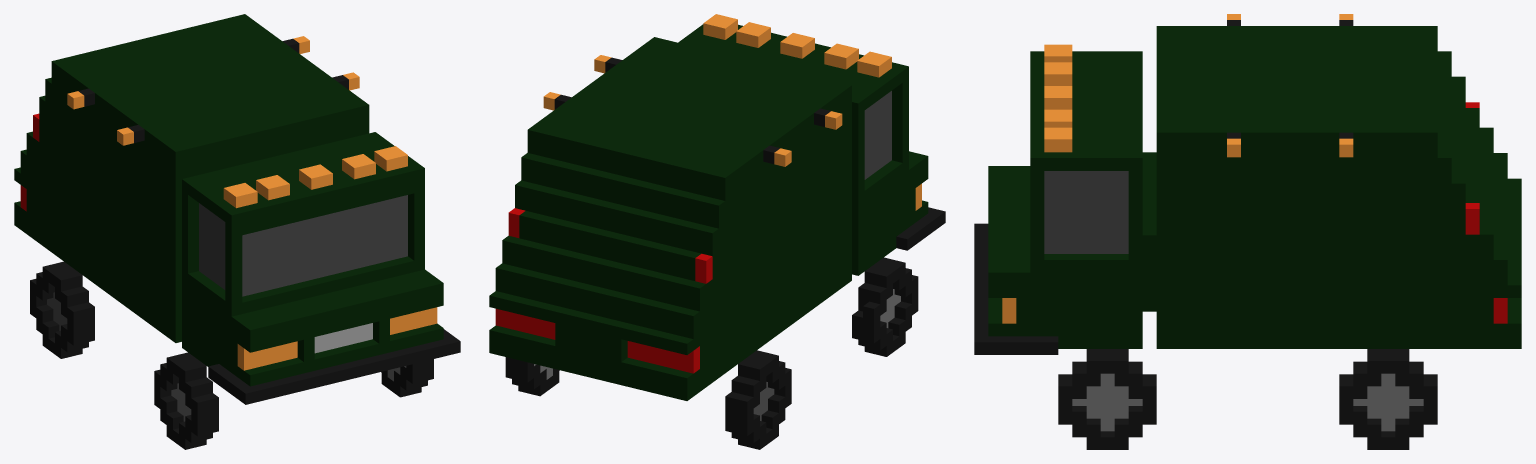
The model's file is green_truck.vox.obj.
3 views of the same model, side by side, from view 1: azimuth 30°, elevation 25°; view 2: azimuth 150°, elevation 25°; view 3: azimuth 270°, elevation 25° (orthographic). The views are drawn at different scales.
Bounding box in the file's own units: 2.2 × 2.4 × 3.9.
1 material, 1 textured.
